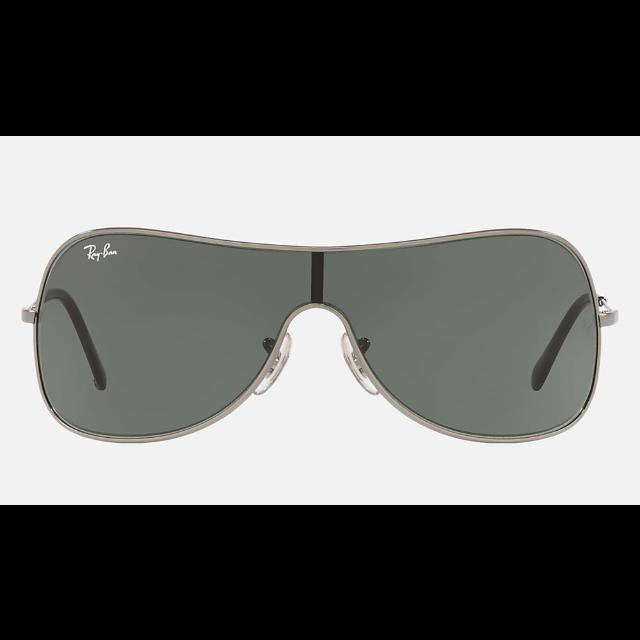Sunglasses: (19, 223, 617, 447)
